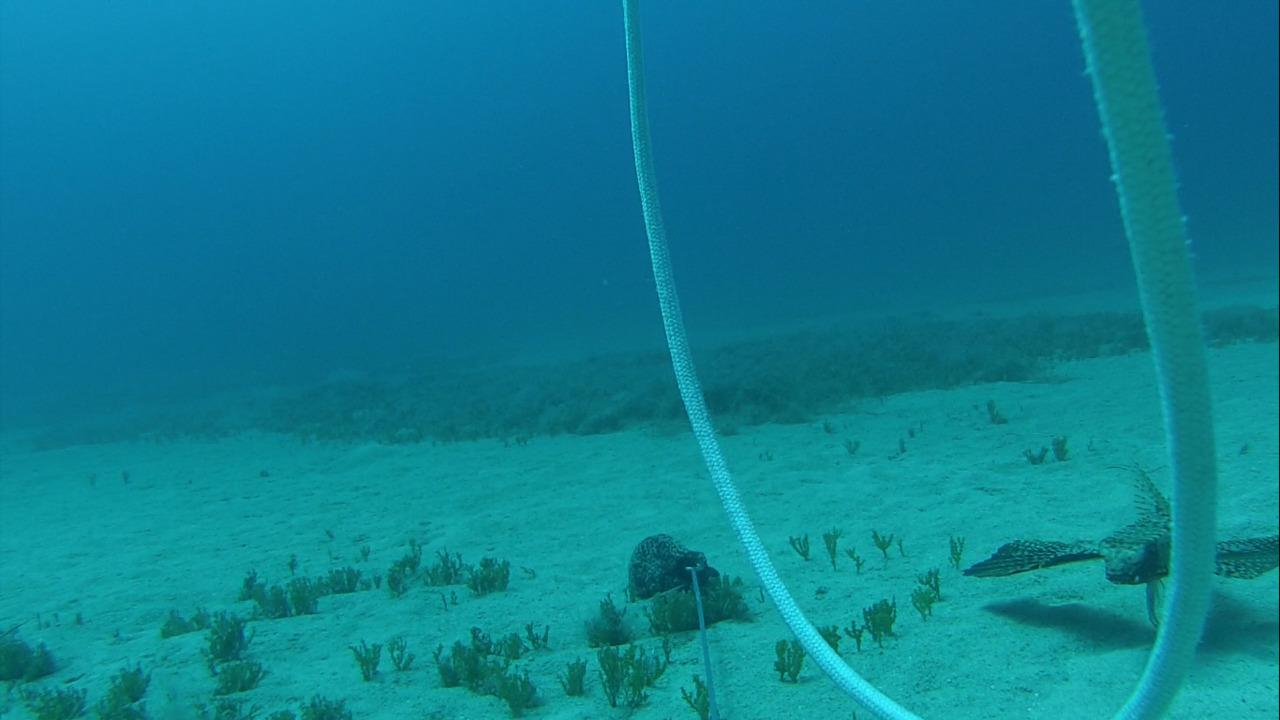dactylopterus: (962, 467, 1277, 612)
